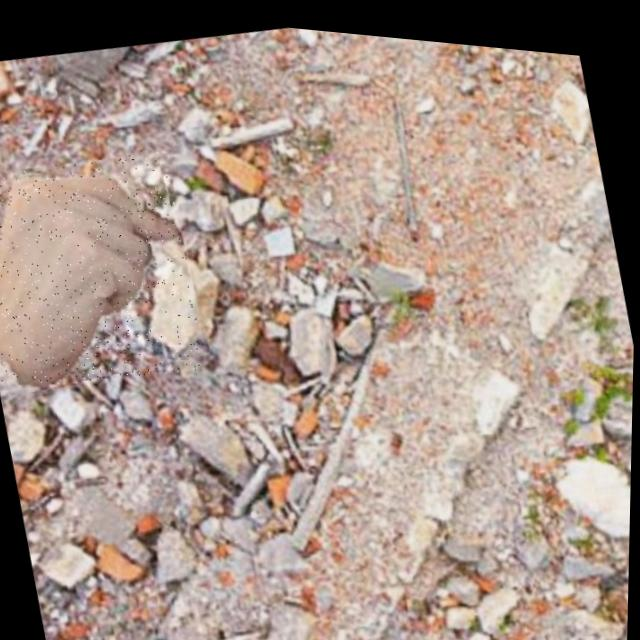Person in Rubble: (0, 133, 214, 407)
